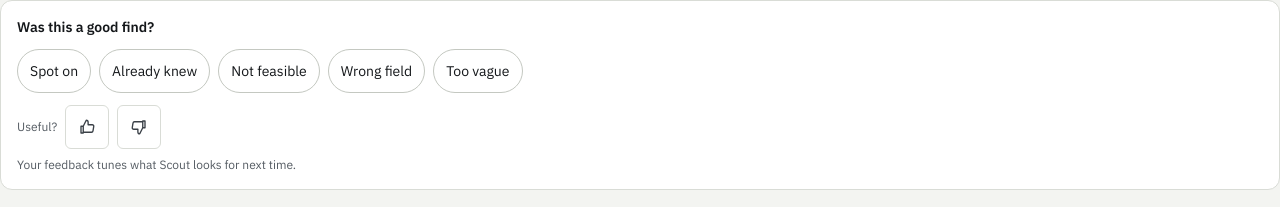
Test case: FeedbackPanel › posts the rating with the chosen reasons and tracks feedback_given
This screenshot has width=1280, height=207.
Expected: the text "Your feedback tunes what Scout looks for next time." is shown, [17, 157, 296, 172]
Click the button "Already knew" at {"x": 155, "y": 71}, box [99, 49, 210, 93]
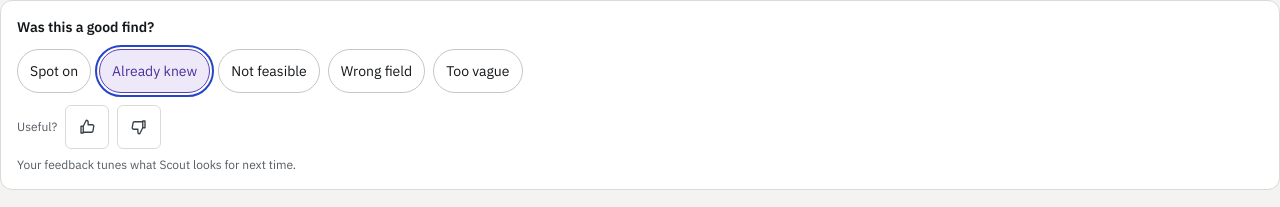
Click the button "Too vague" at {"x": 478, "y": 71}, box [433, 49, 522, 93]
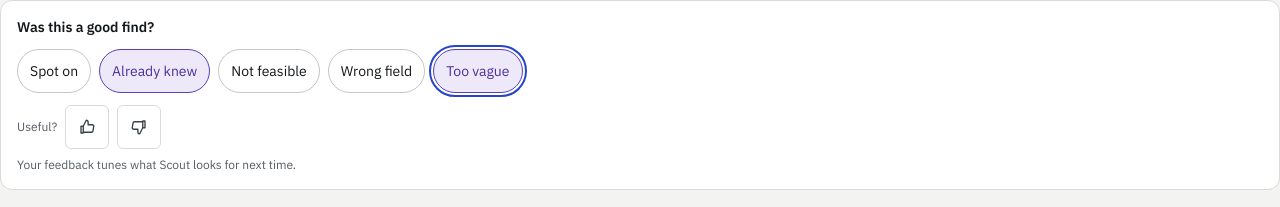
Click the button named "thumbs down" at {"x": 139, "y": 127}, box [117, 105, 161, 149]
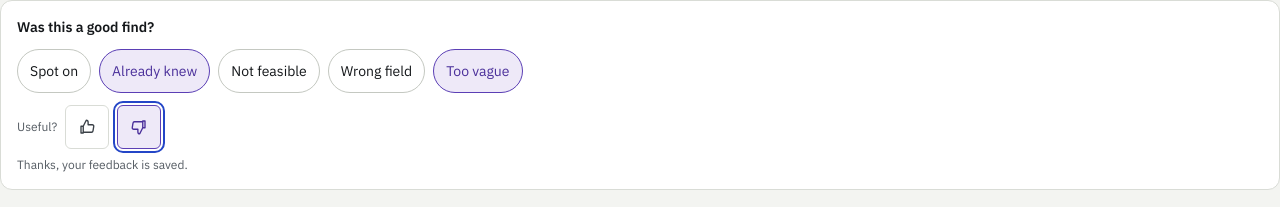
Now the text "Thanks, your feedback is saved." is shown, box [17, 157, 188, 172]
